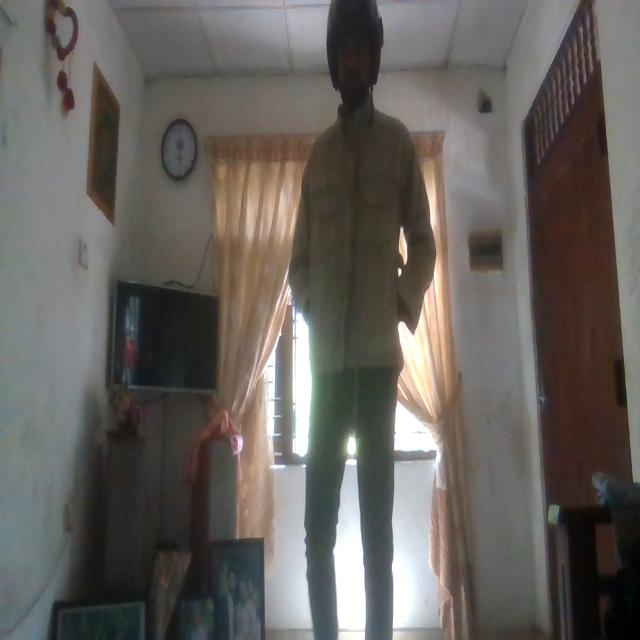Helmet_Wearer: (323, 0, 384, 109)
Jacket_Wearer: (291, 106, 437, 372)
Person: (294, 0, 434, 640)
